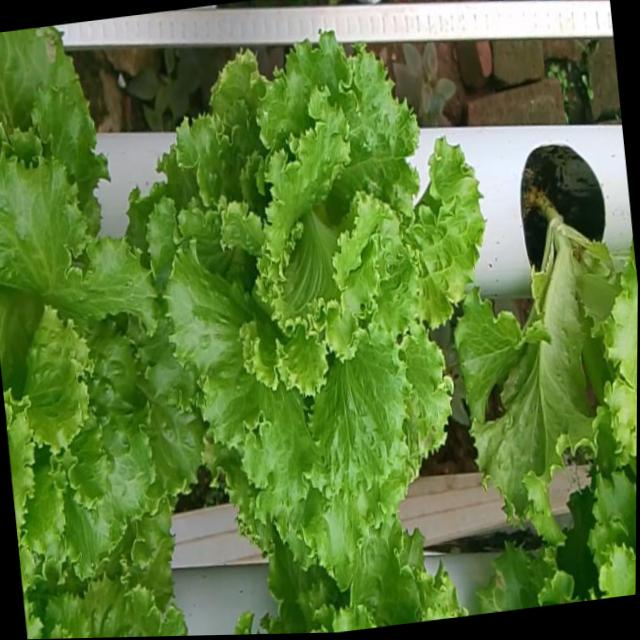Mature: (152, 10, 489, 552), (0, 126, 207, 562)
